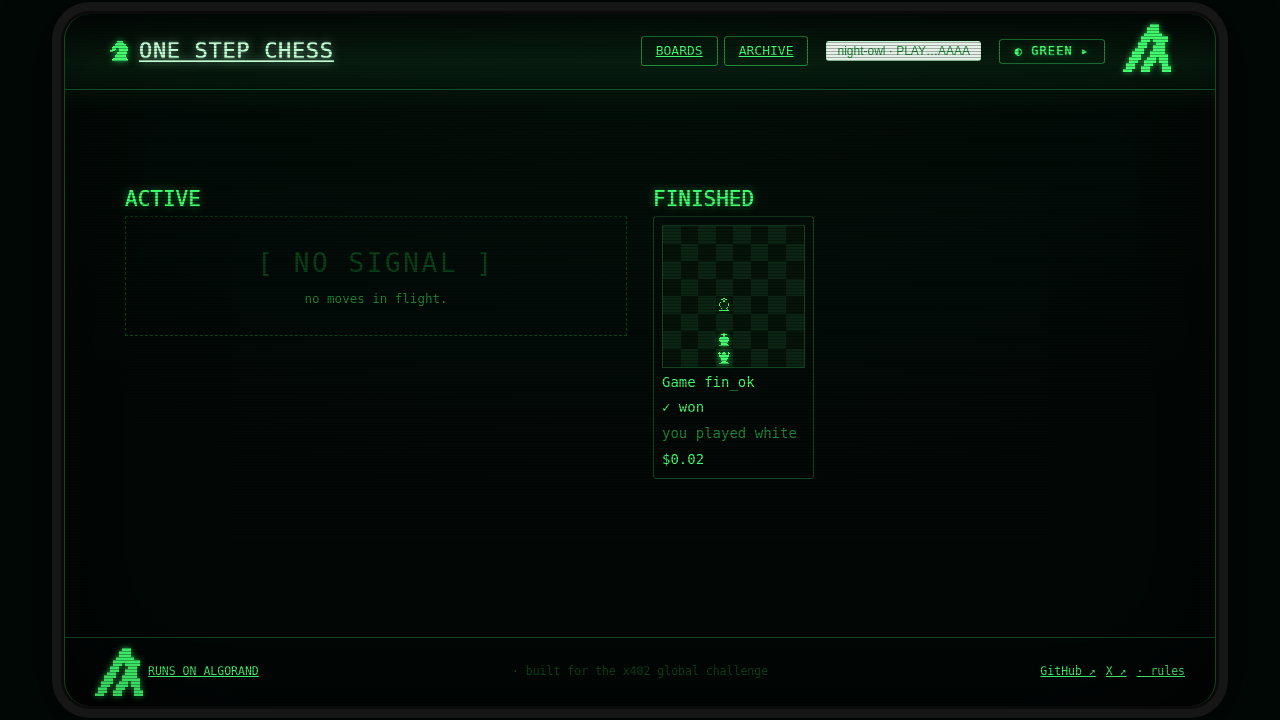
Test: quick_view_shows_aggregated_moves_stake_thinking_and_full_duration
Click the button with test id "finished-card": coordinates (733, 348) 653,216 -> 814,479
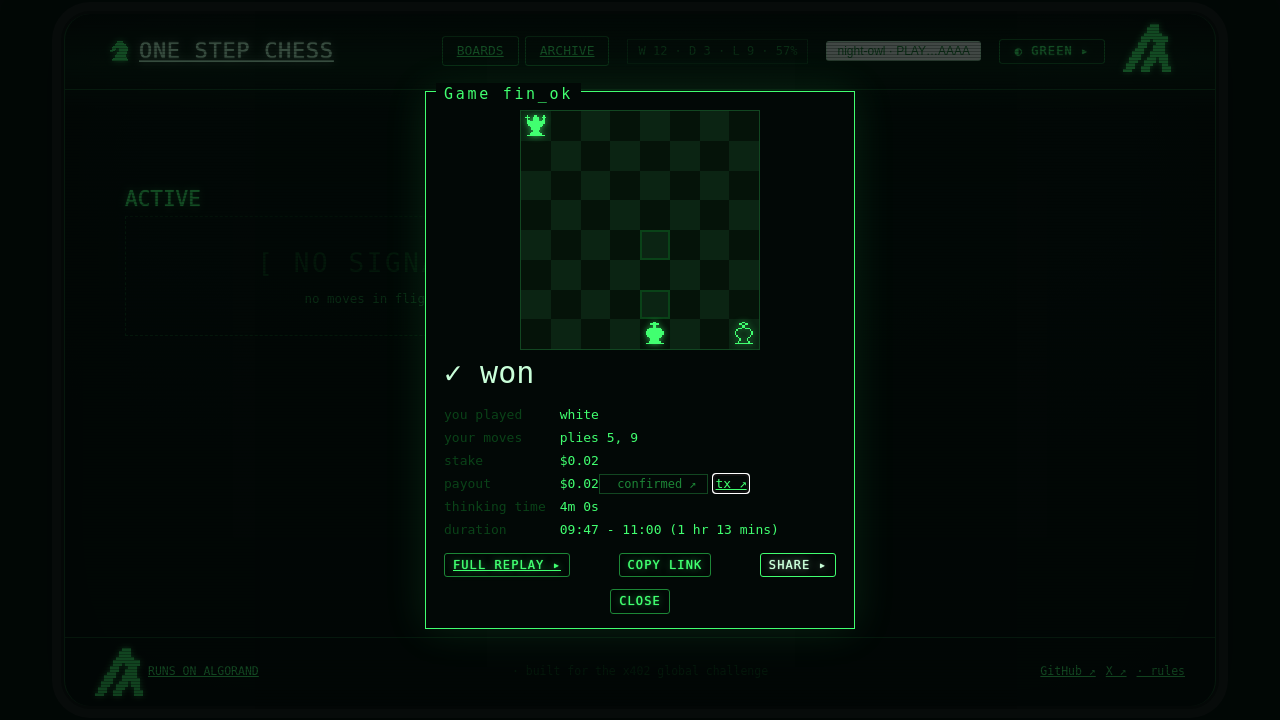
Expected: the dialog with test id "quick-view" shows "plies 5, 9", 560,430 -> 638,445
Expected: the dialog with test id "quick-view" shows "$0.02", 560,453 -> 599,468
Expected: the dialog with test id "quick-view" shows "4m 0s", 560,499 -> 599,514
